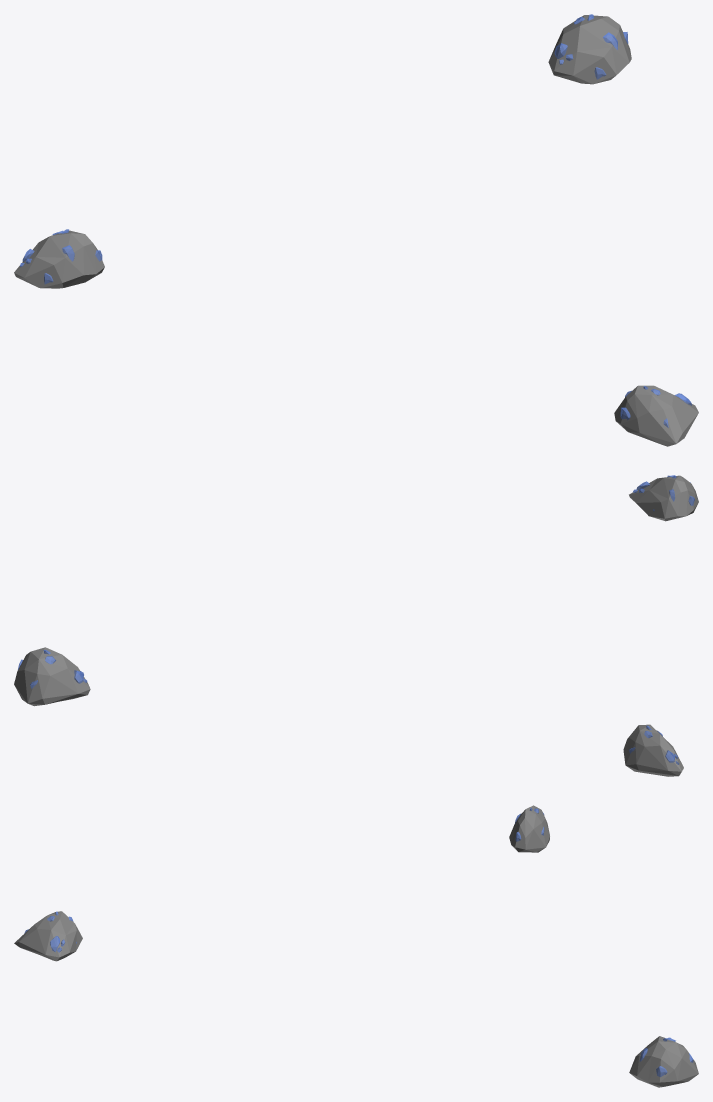
File: rock-package.fbx
The picture shows the model from 3 angles, top to bottom: view 1: azimuth 30°, elevation 25°; view 2: azimuth 150°, elevation 25°; view 3: azimuth 270°, elevation 25°; orthographic projection. The views are drawn at different scales.
Parts seen in each view (by area): view 1: rock.002, rock, rock.001; view 2: rock.002, rock.001, rock; view 3: rock.002, rock.001, rock.
Part boxes in pixels (x1=…): rock.002: x1=548, y1=15, x2=631, y2=84; rock: x1=14, y1=230, x2=104, y2=288; rock.001: x1=614, y1=385, x2=698, y2=446; rock.002: x1=14, y1=647, x2=90, y2=706; rock.001: x1=629, y1=475, x2=698, y2=521; rock: x1=623, y1=724, x2=683, y2=776; rock.002: x1=629, y1=1036, x2=698, y2=1087; rock.001: x1=14, y1=911, x2=82, y2=961; rock: x1=509, y1=805, x2=549, y2=852.
Size of what is drawn, in the model's own units: 7898 by 629 by 8705.
